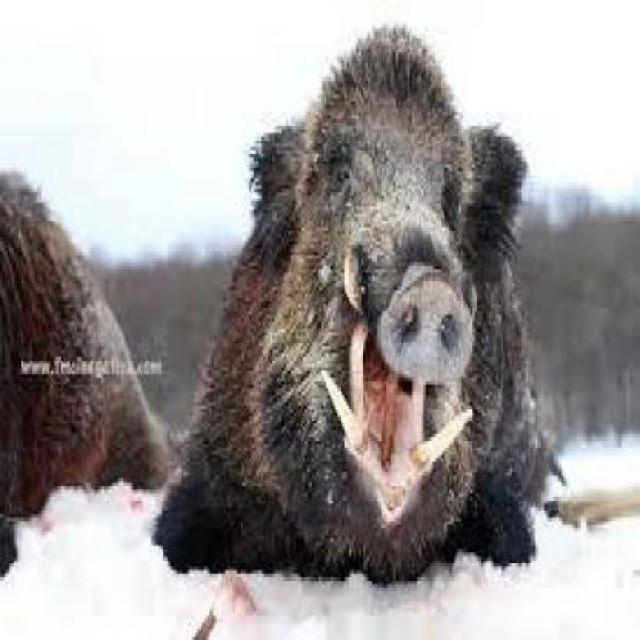wildboar: (150, 22, 548, 575), (0, 152, 175, 593)
